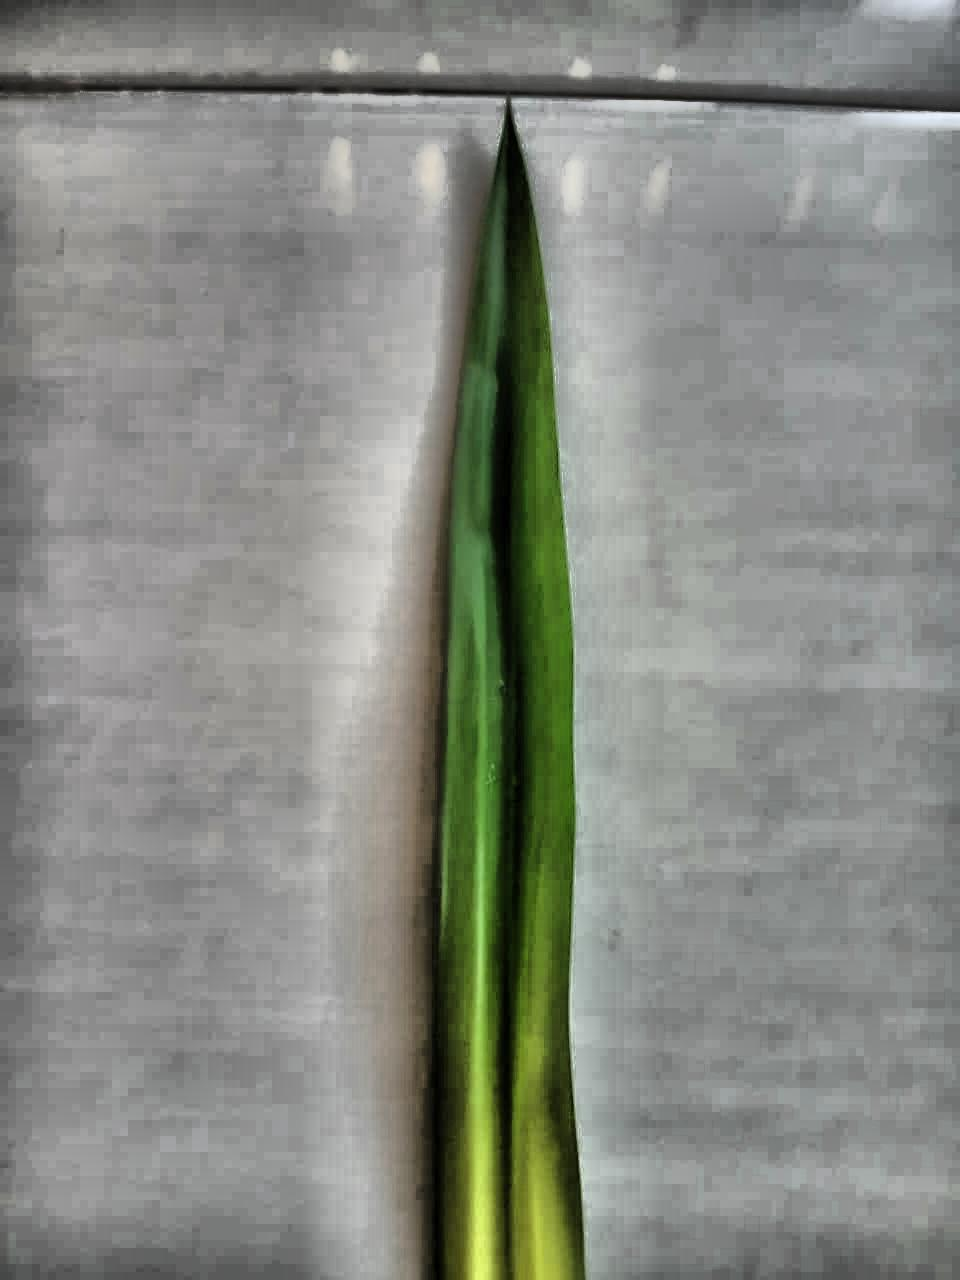daun pandan: (433, 104, 584, 1279)
